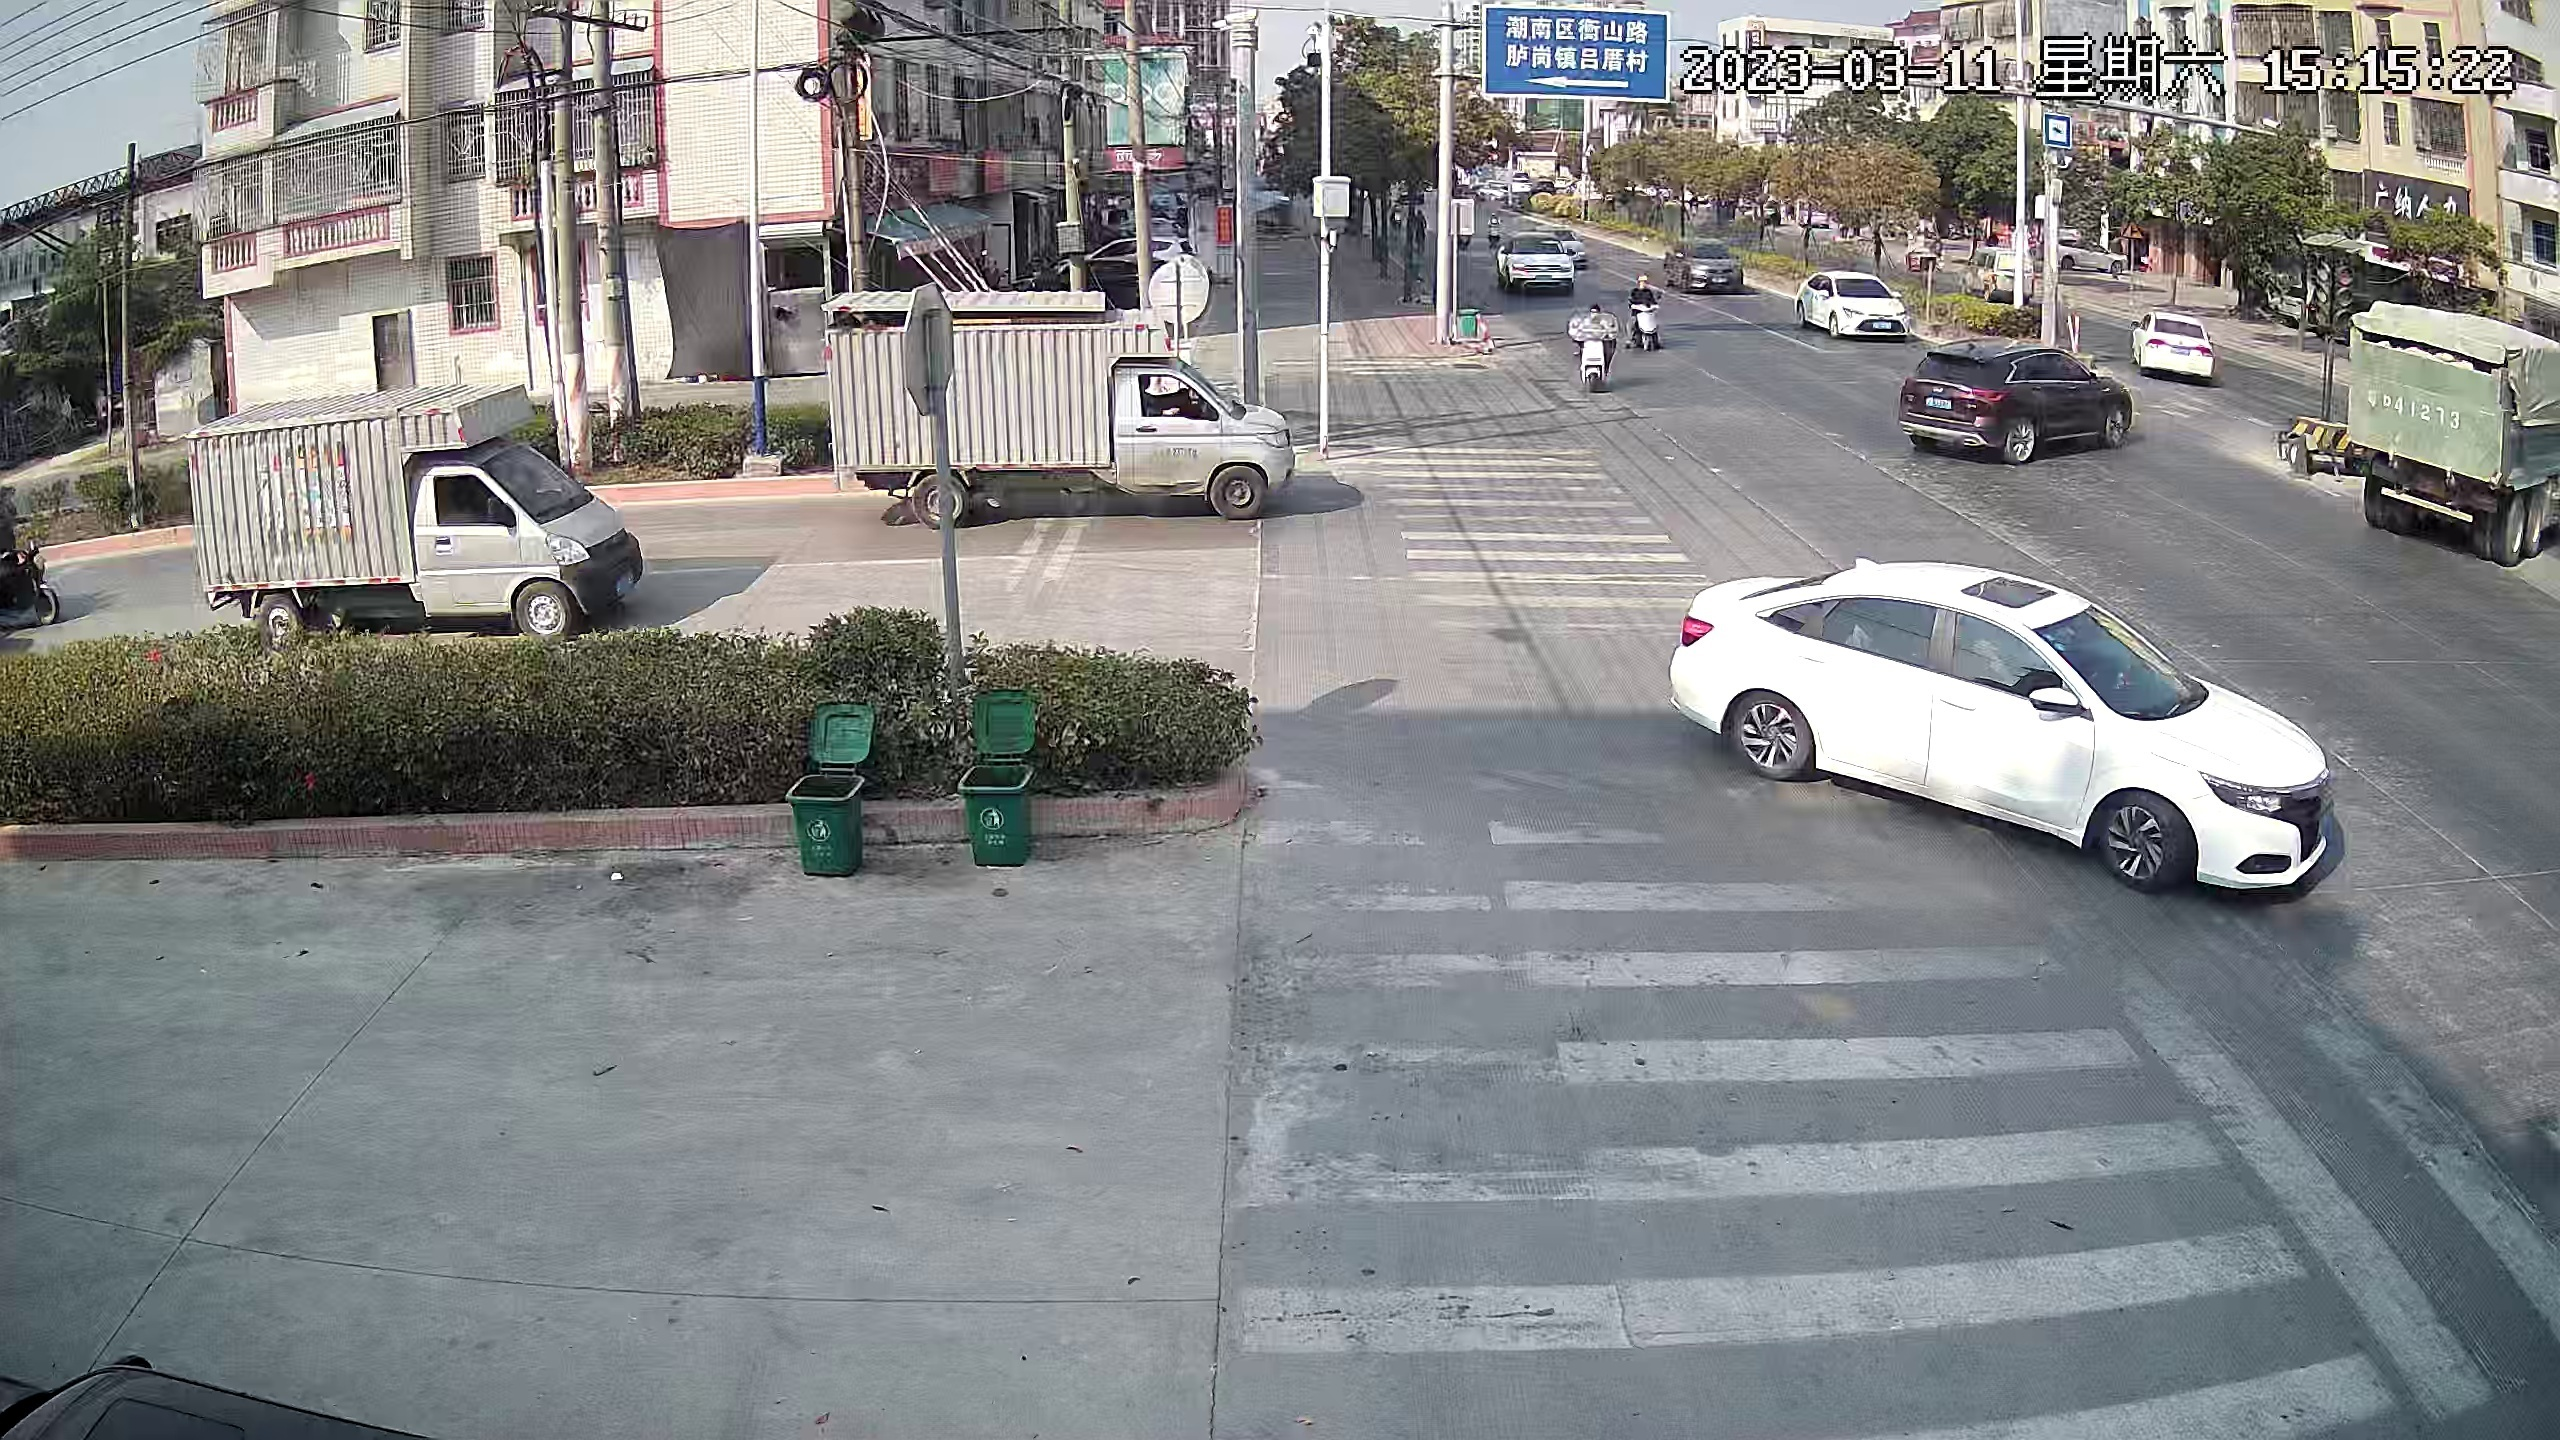motorcycle: (1565, 302, 1625, 399), (1632, 269, 1674, 360)
sedan: (1686, 554, 2333, 914), (12, 1349, 367, 1440), (1797, 271, 1911, 353), (2142, 302, 2214, 397), (1088, 234, 1180, 280), (2064, 236, 2135, 280)
suv: (1909, 339, 2129, 475), (1495, 234, 1577, 294), (1676, 239, 1737, 297)
truck: (839, 278, 1296, 522), (193, 396, 642, 629), (2358, 294, 2556, 587)
van: (1969, 250, 2033, 308)
